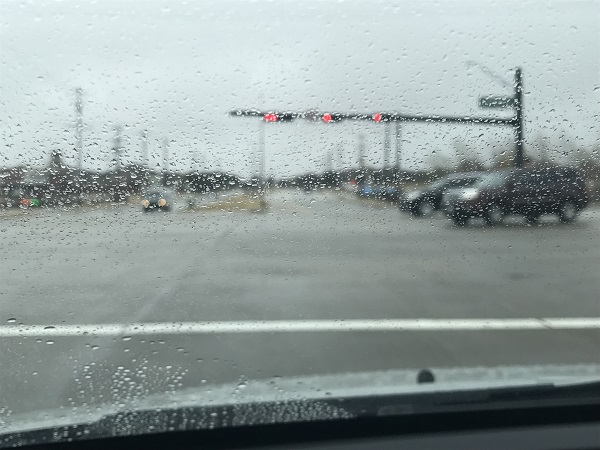car: (445, 171, 593, 222), (399, 171, 486, 216), (143, 189, 174, 212)
